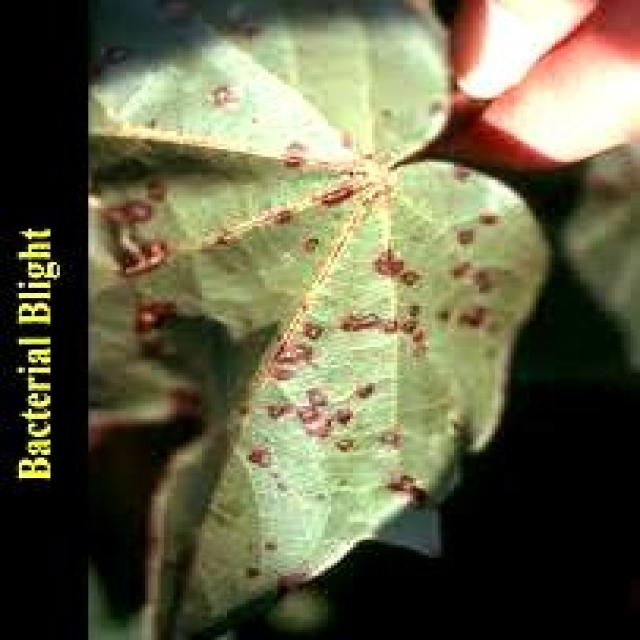Bacterial Blight: (107, 83, 478, 477)
